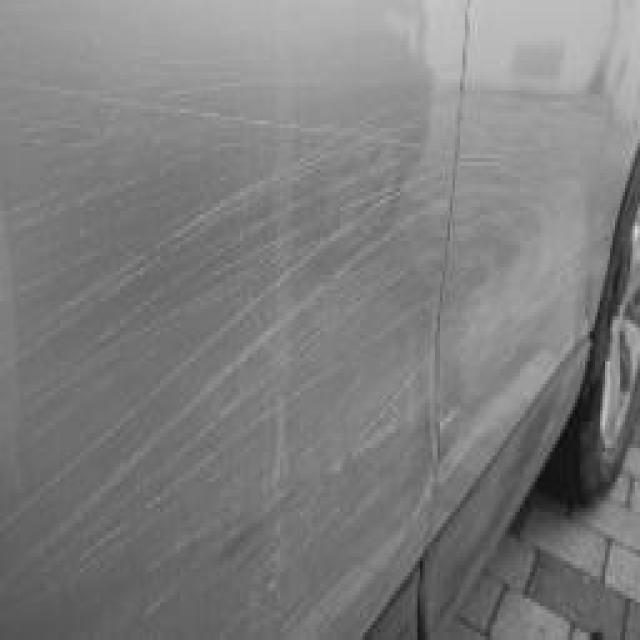Door: (2, 0, 425, 640), (452, 151, 595, 407)
